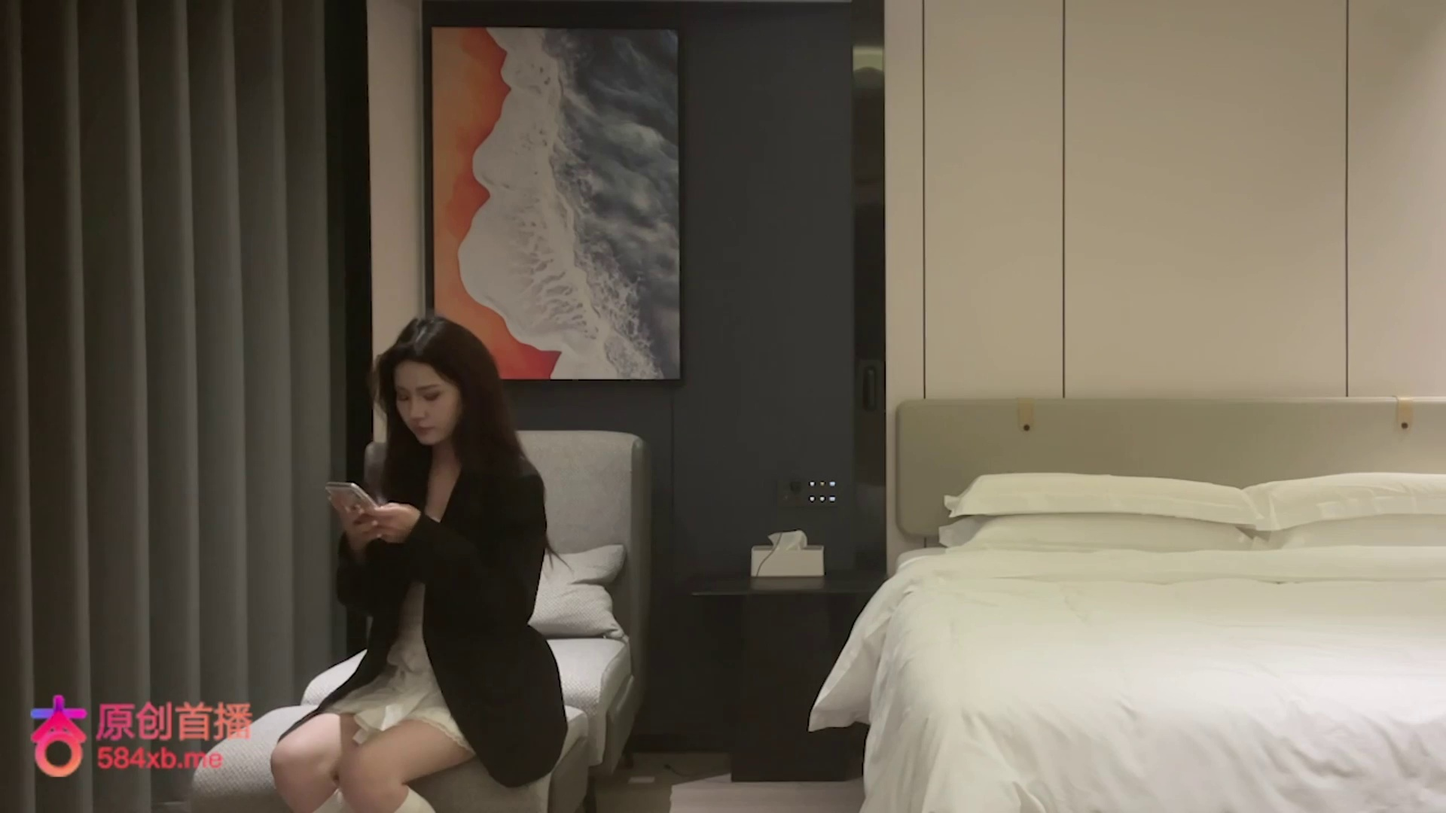sit: (269, 314, 567, 808)
